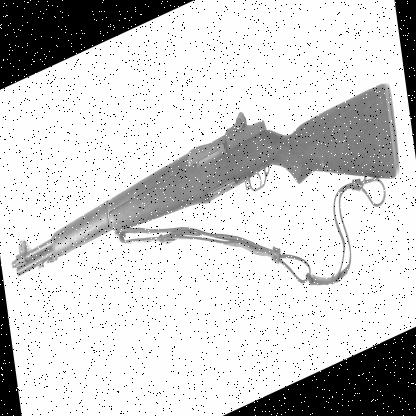rifle: (0, 121, 389, 416)
